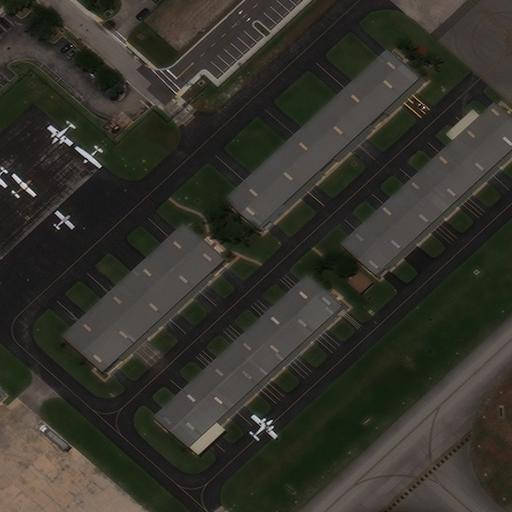Small Civil Transport: (45, 122, 72, 146), (13, 172, 38, 196), (252, 414, 278, 437), (73, 147, 100, 169), (54, 209, 75, 228), (0, 168, 6, 189)
